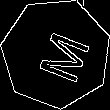M_W: (25, 23, 87, 84)
